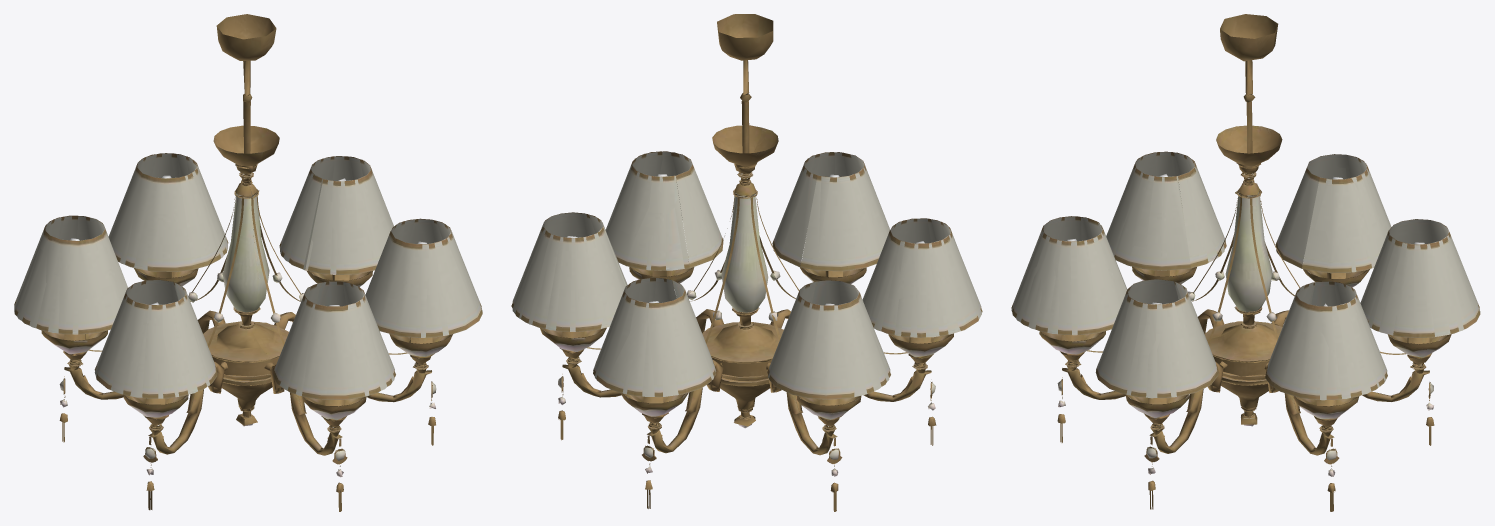
The model's file is Chandelier_01.glb.
3 renders of one model, left to right at view 1: azimuth 30°, elevation 25°; view 2: azimuth 150°, elevation 25°; view 3: azimuth 270°, elevation 25°, orthographic.
Parts seen in each view (by area): view 1: Chandelier_01; view 2: Chandelier_01; view 3: Chandelier_01.
Part boxes in pixels (x1=…): Chandelier_01: x1=14, y1=14, x2=482, y2=511; Chandelier_01: x1=511, y1=14, x2=982, y2=511; Chandelier_01: x1=1011, y1=14, x2=1480, y2=511.
Size of the model in its own units: 0.7463 by 0.7983 by 0.8159.
Materials: 2 (1 with a texture image).
